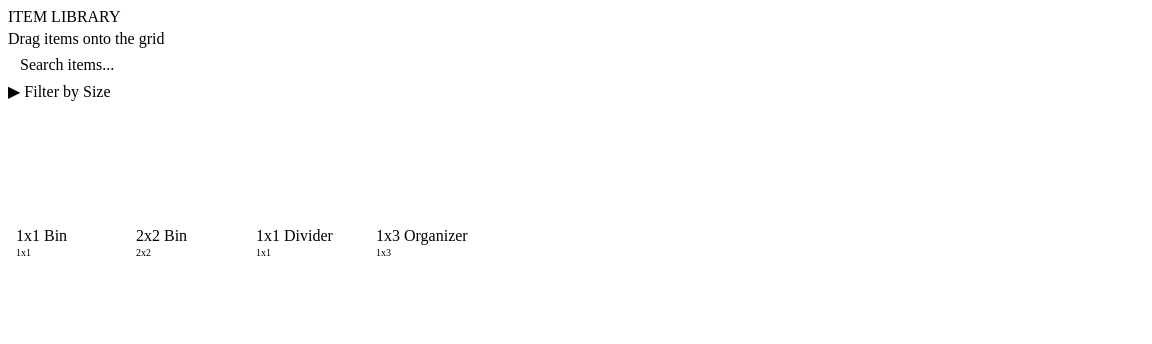
Test: ItemLibrary › Dimension Filtering › should show no results message when filters have no matches
This screenshot has width=1152, height=344.
Click the button "▶ Filter by Size" at [65, 92], box [8,82,1144,101]
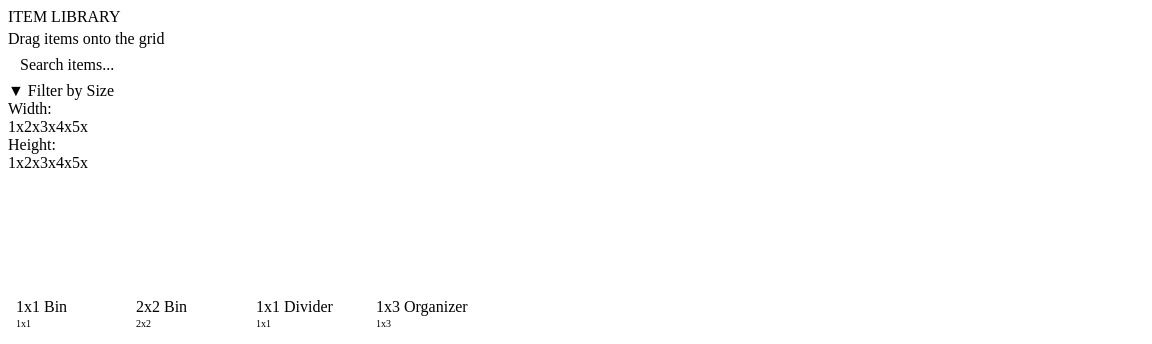
Click the button "5x" below "Width:" at [80, 127], box [72,118,88,136]
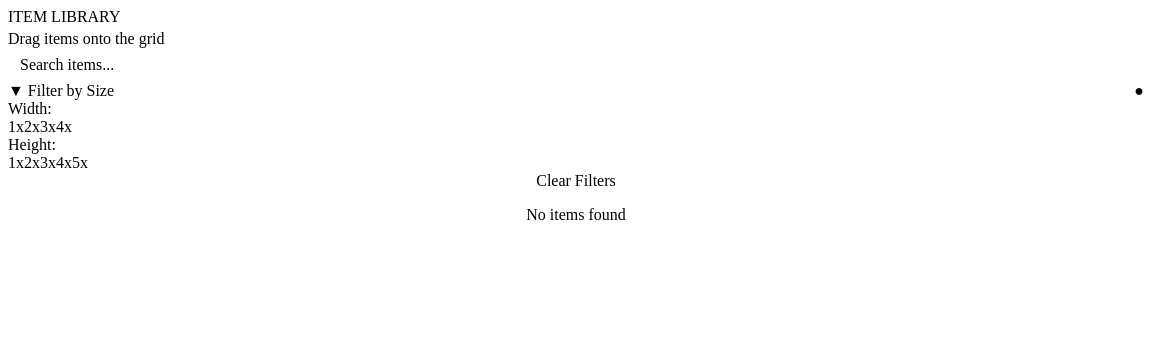
Result: the text "No items found" is shown at [526,206,626,223]
